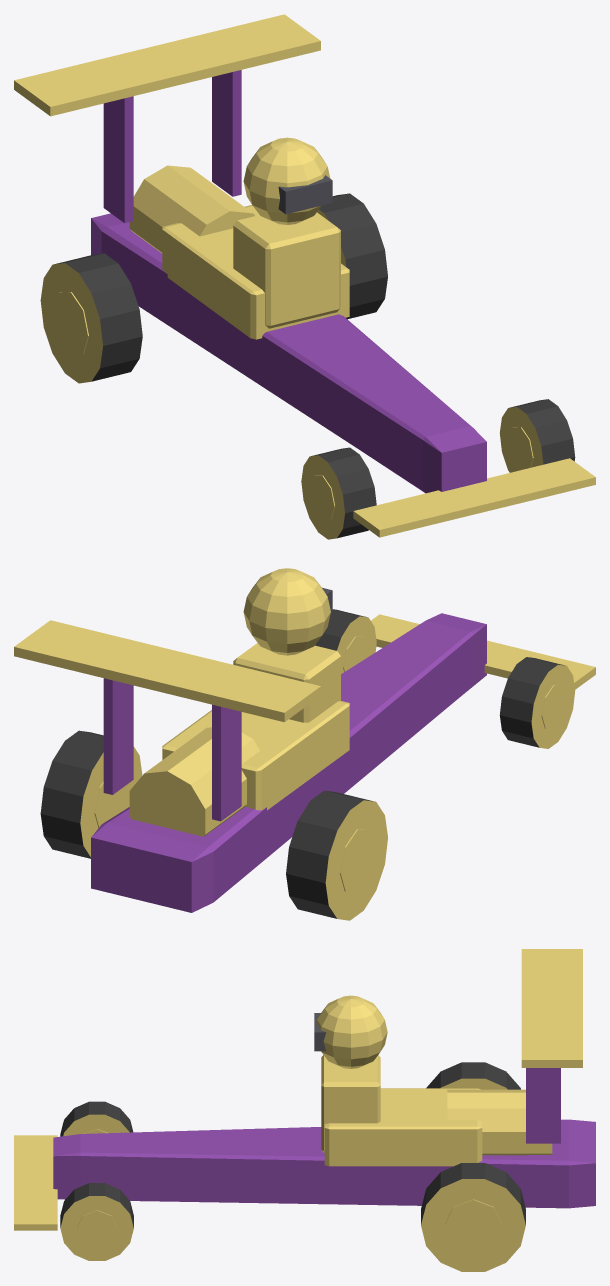
File: nightjar.glb
The picture shows the model from 3 angles, top to bottom: view 1: azimuth 30°, elevation 25°; view 2: azimuth 150°, elevation 25°; view 3: azimuth 270°, elevation 25°; orthographic projection. The views are drawn at different scales.
Parts seen in each view (by area): view 1: NIGHTJAR_BODY, WHEEL_RL, WHEEL_FL, WHEEL_RR, WHEEL_FR; view 2: NIGHTJAR_BODY, WHEEL_RL, WHEEL_RR, WHEEL_FL, WHEEL_FR; view 3: NIGHTJAR_BODY, WHEEL_RR, WHEEL_FR, WHEEL_RL, WHEEL_FL.
Part boxes in pixels (<box>): NIGHTJAR_BODY: <box>14,14,595,537</box>; WHEEL_RL: <box>40,253,142,383</box>; WHEEL_FL: <box>301,447,376,539</box>; WHEEL_RR: <box>317,193,387,319</box>; WHEEL_FR: <box>499,399,575,472</box>; NIGHTJAR_BODY: <box>14,568,595,912</box>; WHEEL_RL: <box>286,790,387,920</box>; WHEEL_RR: <box>40,730,142,858</box>; WHEEL_FL: <box>499,657,575,748</box>; WHEEL_FR: <box>315,609,376,673</box>; NIGHTJAR_BODY: <box>14,949,595,1230</box>; WHEEL_RR: <box>421,1163,525,1271</box>; WHEEL_FR: <box>60,1183,133,1260</box>; WHEEL_RL: <box>426,1062,520,1089</box>; WHEEL_FL: <box>60,1101,133,1136</box>.
Bounding box in the file's own units: 1.59 × 1.35 × 3.32.
